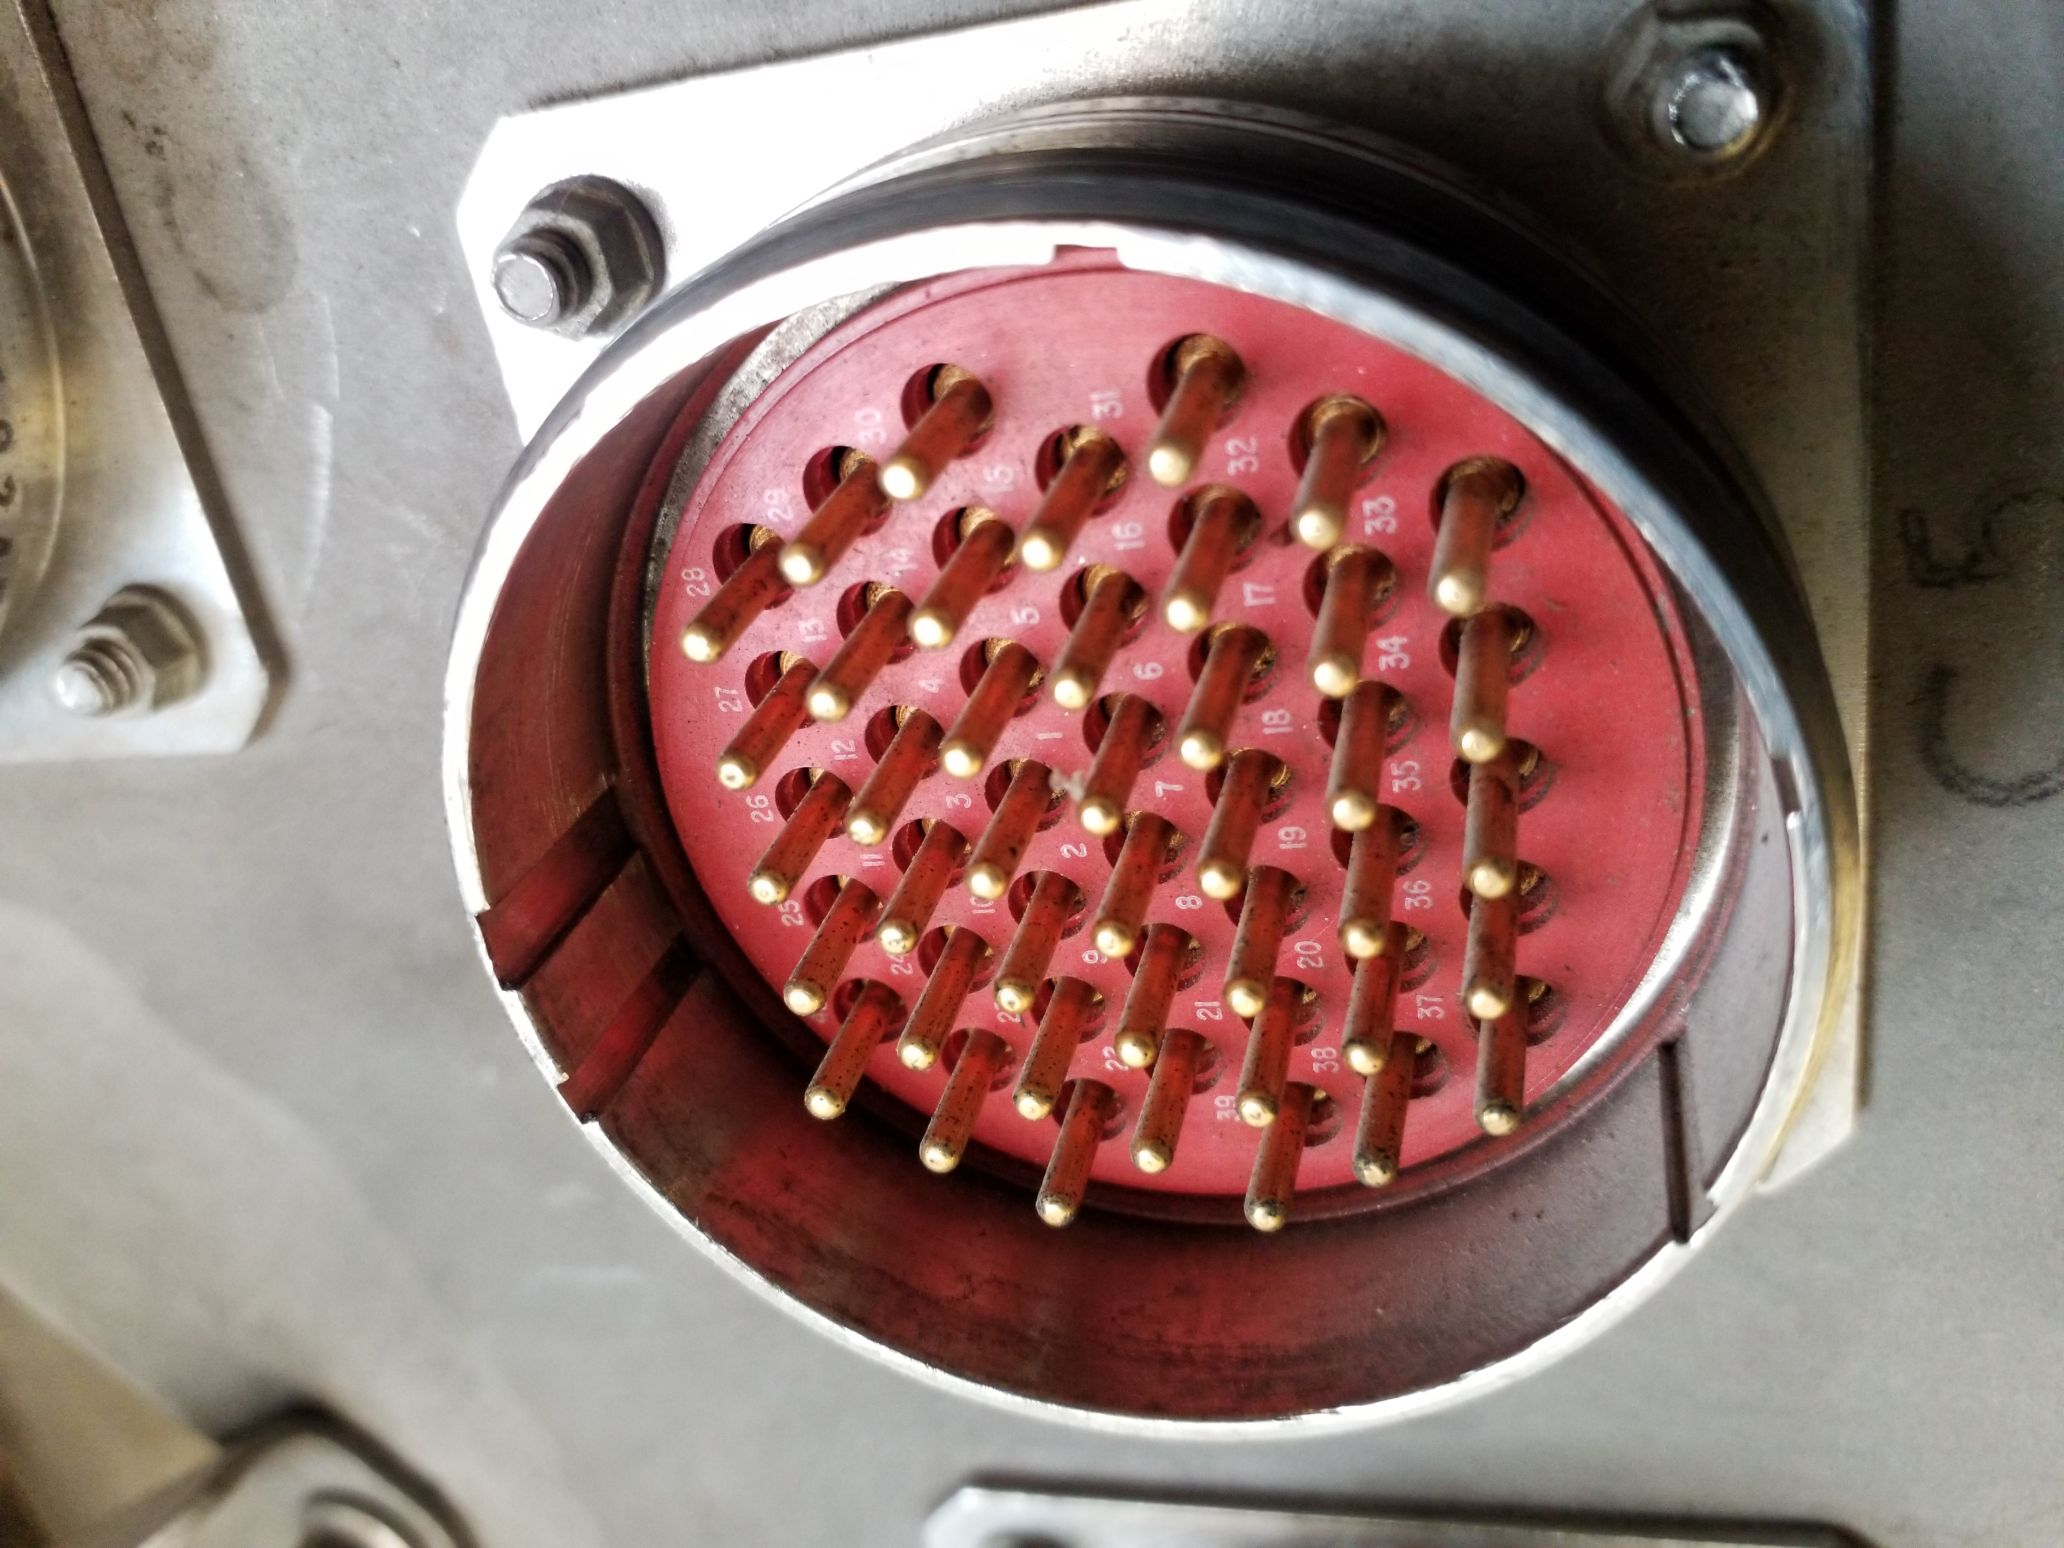outlet: (440, 101, 1823, 1442)
